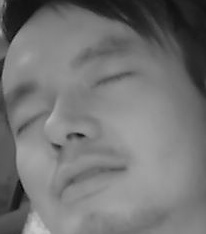blink: (12, 109, 49, 136), (92, 68, 132, 89)
mouth: (50, 151, 125, 204)
